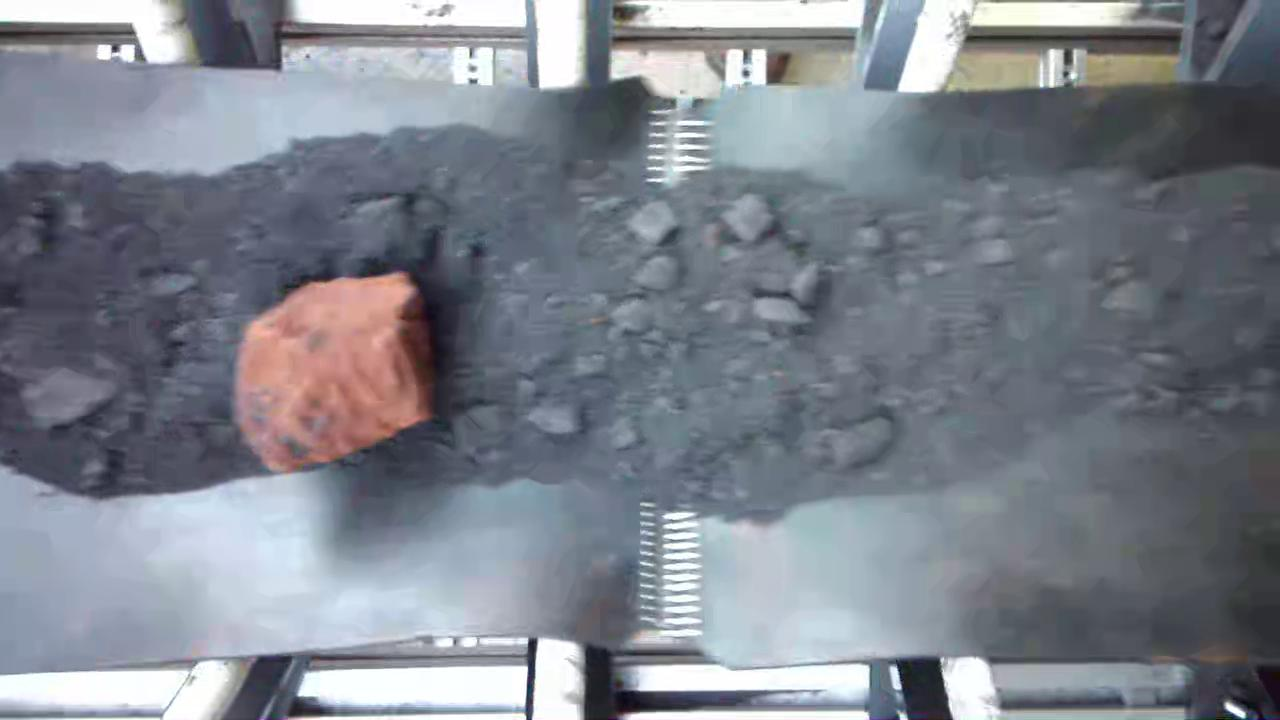conveyor: (3, 92, 1280, 650)
